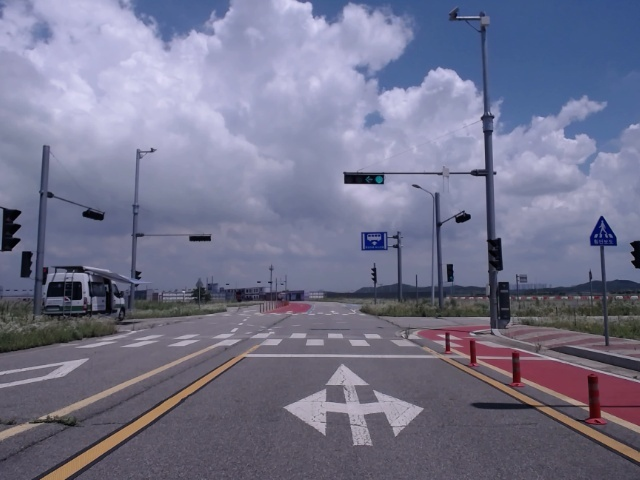all_green_4: (342, 172, 386, 184)
